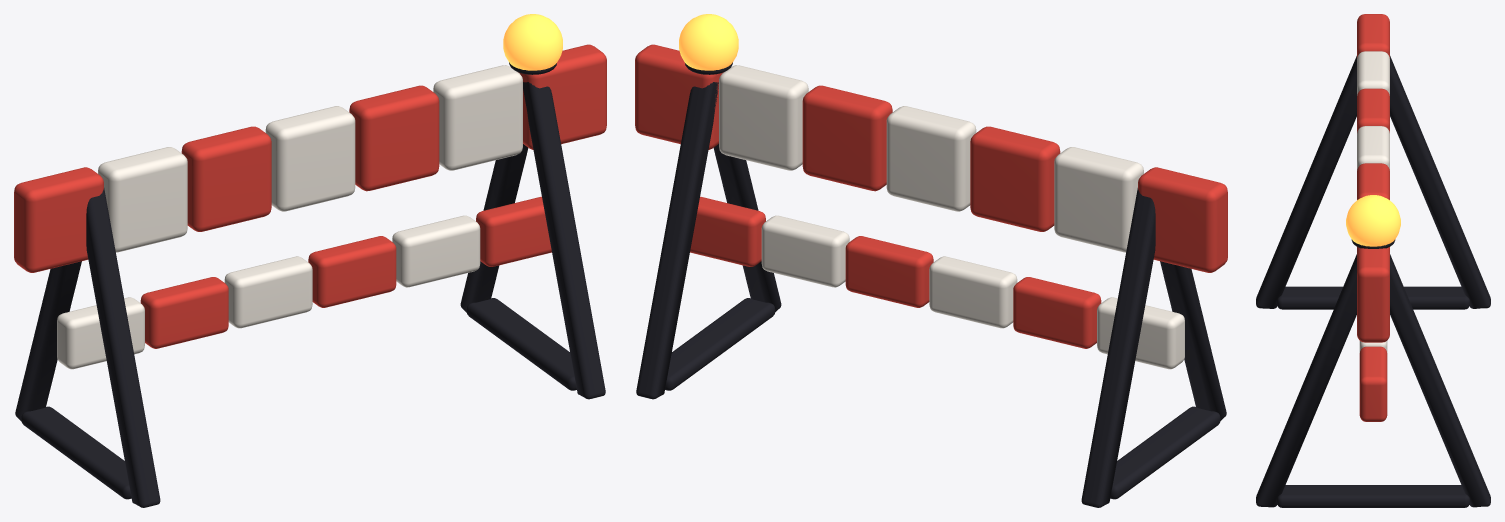
The model's file is barricade.glb.
3 views of the same model, side by side, from view 1: azimuth 30°, elevation 25°; view 2: azimuth 150°, elevation 25°; view 3: azimuth 270°, elevation 25° (orthographic). The views are drawn at different scales.
Visible parts, largest first — view 1: barricade.020, lamp.020; view 2: barricade.020, lamp.020; view 3: barricade.020, lamp.020.
Part boxes in pixels (bbox=[...]): barricade.020: bbox=[14, 44, 606, 507]; lamp.020: bbox=[503, 14, 562, 70]; barricade.020: bbox=[635, 44, 1227, 507]; lamp.020: bbox=[679, 14, 738, 70]; barricade.020: bbox=[1256, 14, 1490, 507]; lamp.020: bbox=[1346, 195, 1400, 246].
Size of the model in its own units: 2.22 by 1.22 by 0.8508.
Materials: 1 (1 with a texture image).
